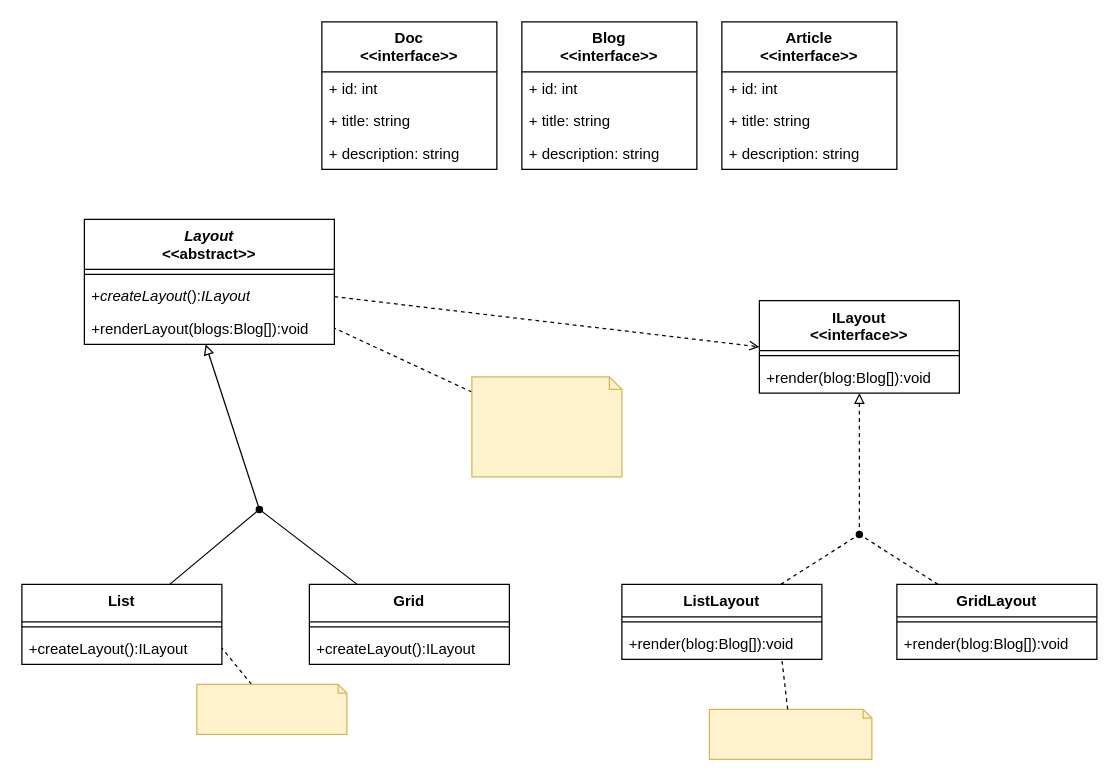
The diagram is 1119 pixels wide and 781 high, and some of its shapes have lost their labels. The shapes that lost their labels are listed below. From the top down, each one's centre as x and y in pixels, then its label:
(546,426): const layout = this.createLayout() return layout.render()
(271,708): return new ListLayout
(790,733): display blog list format
